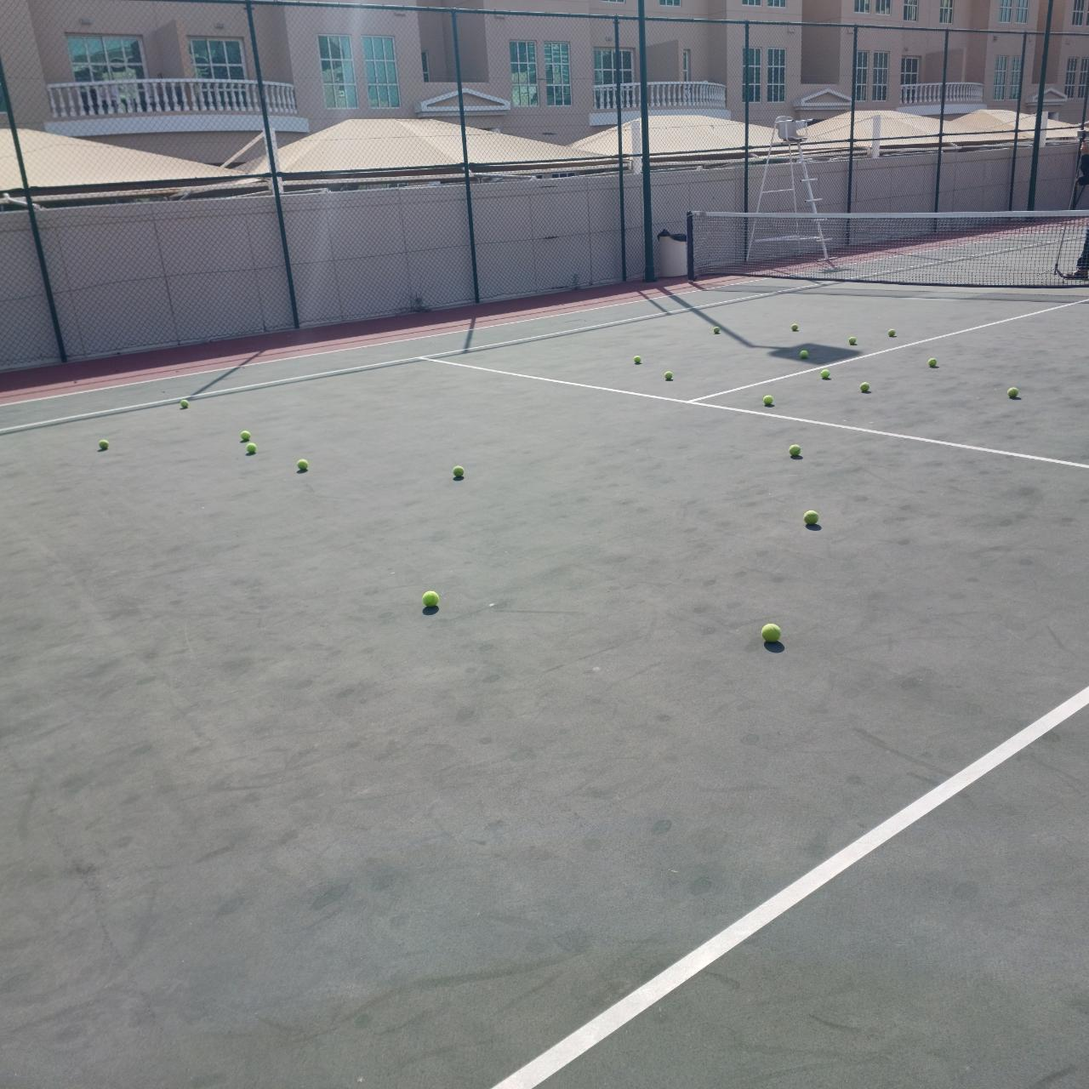tennis-ball: (759, 620, 781, 642), (420, 588, 440, 607), (801, 508, 818, 525), (294, 456, 309, 471), (451, 464, 465, 479), (98, 439, 109, 451), (789, 444, 800, 456), (763, 395, 774, 406), (1007, 387, 1018, 398), (239, 430, 251, 440), (246, 443, 258, 452), (820, 369, 830, 379), (180, 399, 190, 408), (632, 354, 641, 364), (860, 382, 869, 392), (928, 358, 937, 368), (664, 371, 673, 380), (800, 350, 809, 359), (848, 337, 857, 345), (888, 328, 896, 337), (791, 323, 799, 331), (713, 327, 721, 334)
